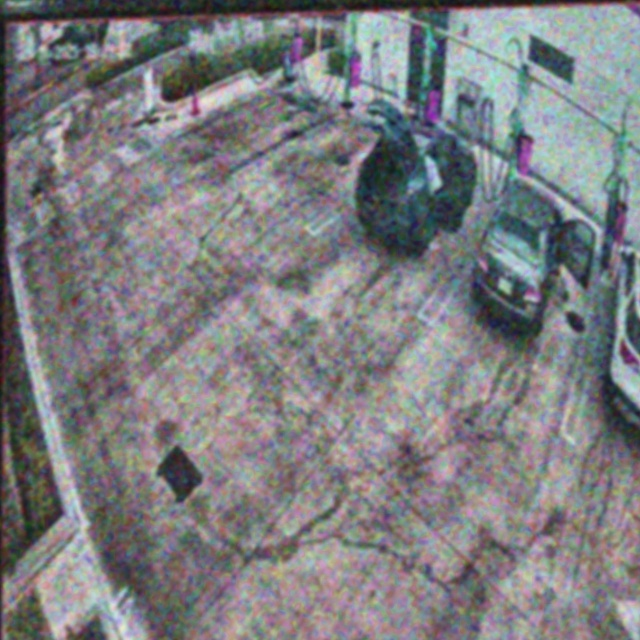Car: (355, 97, 479, 255), (472, 173, 592, 332)
